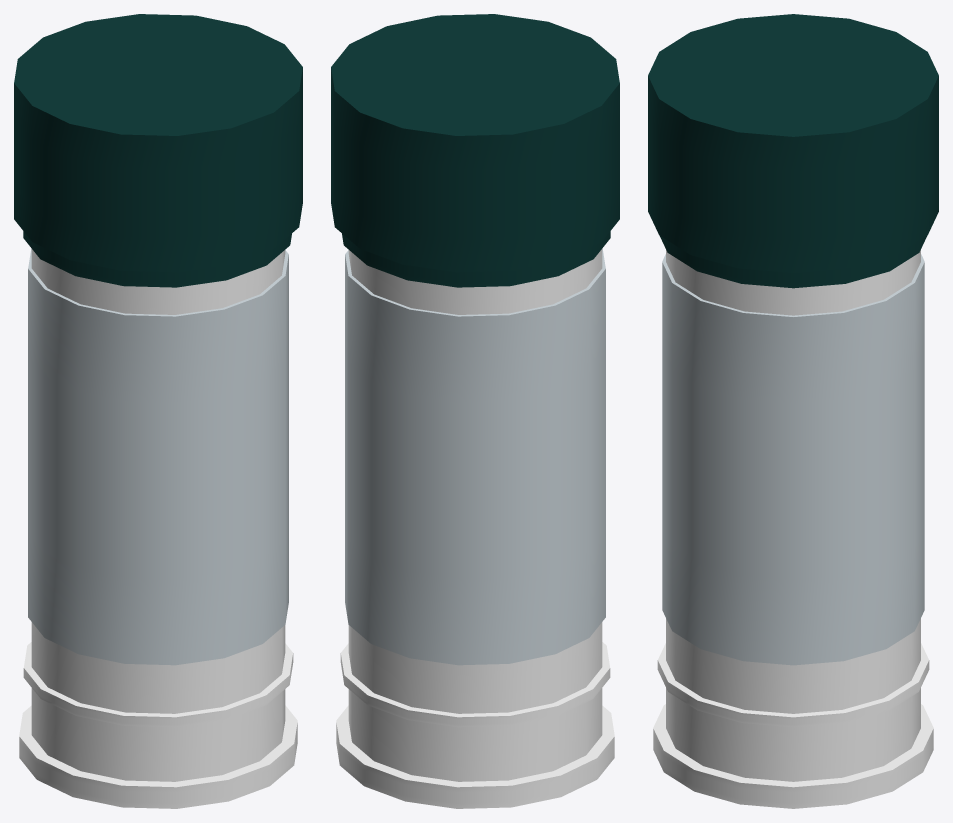
The model's file is belleblazer.glb.
3 views of the same model, side by side, from view 1: azimuth 30°, elevation 25°; view 2: azimuth 150°, elevation 25°; view 3: azimuth 270°, elevation 25° (orthographic).
Visible parts, largest first — view 1: Cylinder.6, Cylinder.3, Cylinder, Cylinder.1, Cylinder.2, Cylinder.4; view 2: Cylinder.6, Cylinder.3, Cylinder, Cylinder.1, Cylinder.2, Cylinder.4; view 3: Cylinder.6, Cylinder.3, Cylinder, Cylinder.1, Cylinder.2, Cylinder.4.
Part boxes in pixels (x1,y1,x2,y2): Cylinder.6: (28,248,288,665); Cylinder.3: (14,14,302,272); Cylinder: (31,249,285,781); Cylinder.1: (19,705,297,808); Cylinder.2: (23,642,293,727); Cylinder.4: (23,231,291,287); Cylinder.6: (345,248,605,665); Cylinder.3: (331,14,619,272); Cylinder: (348,249,602,781); Cylinder.1: (336,705,614,808); Cylinder.2: (340,642,610,727); Cylinder.4: (342,231,610,287); Cylinder.6: (662,254,924,665); Cylinder.3: (648,14,938,272); Cylinder: (666,250,920,781); Cylinder.1: (653,704,933,808); Cylinder.2: (657,643,929,727); Cylinder.4: (659,235,927,288).
Size of what is drawn, in the model's own units: 70.59 by 180 by 70.59.
